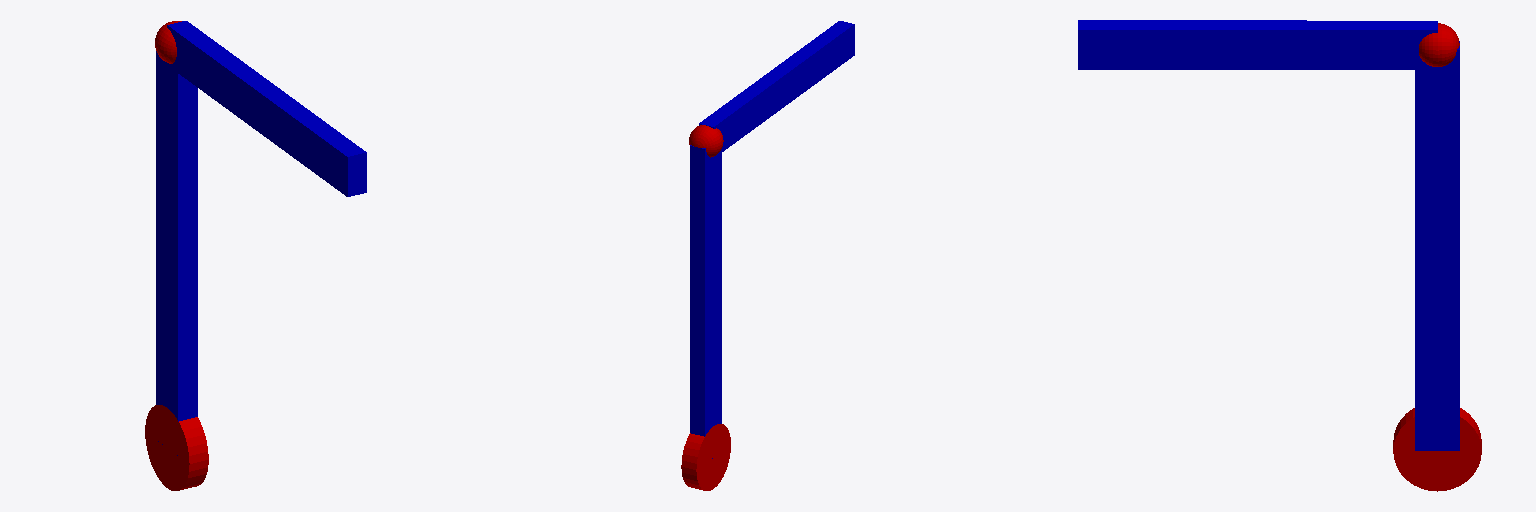
robot.urdf — TwoLinkStruct7855361147:
<?xml version="1.0"?>
<robot  name="TwoLinkStruct7855361147" >
 <material  name="blue" >
  <color  rgba="0 0 0.8 1.0" />
 </material>
 <material  name="red" >
  <color  rgba="0.8 0 0 1.0" />
 </material>
 <link  name="base_link" >
  <visual >
   <origin  rpy="0 1.5707 0"  xyz="0 0 0" />
   <material  name="red" />
   <geometry >
    <cylinder  length="0.05"  radius="0.1" />
   </geometry>
  </visual>
 </link>
 <joint  type="revolute"  name="joint1" >
  <parent  link="base_link" />
  <child  link="link1" />
  <origin  xyz="0 0 0"  rpy="0 0 0" />
  <axis  xyz="1 0 0" />
 </joint>
 <link  name="link1" >
  <inertial >
   <origin  rpy="0 0 0"  xyz="0 0 0.5" />
   <mass  value="4.0191545486450195" />
   <inertia  ixy="0.0"  iyy="0.0016746477286020917"  izz="0.3357668695847193"  ixz="0.0"  ixx="0.3357668695847193"  iyz="0.0" />
  </inertial>
  <visual >
   <origin  rpy="0 0 0"  xyz="0 0 0.5" />
   <material  name="blue" />
   <geometry >
    <box  size="0.05 0.1 1.0" />
   </geometry>
  </visual>
 </link>
 <joint  type="fixed"  name="joint-joint-1" >
  <parent  link="link1" />
  <child  link="joint-link-1" />
  <origin  xyz="0 0 1.0"  rpy="1.5707 0 0" />
  <axis  xyz="1 0 0" />
 </joint>
 <link  name="joint-link-1" >
  <inertial >
   <origin  rpy="0 0 0"  xyz="0 0 0" />
   <mass  value="2.050191987137427" />
   <inertia  ixy="0"  iyy="0"  izz="0"  ixz="0"  ixx="0"  iyz="0" />
  </inertial>
  <visual >
   <origin  rpy="0 0 0"  xyz="0 0 0" />
   <material  name="red" />
   <geometry >
    <sphere  radius="0.05" />
   </geometry>
  </visual>
 </link>
 <joint  type="revolute"  name="joint2" >
  <parent  link="link1" />
  <child  link="link2" />
  <origin  xyz="0 0 1.0"  rpy="1.5707 0 0" />
  <axis  xyz="1 0 0" />
 </joint>
 <link  name="link2" >
  <inertial >
   <origin  rpy="0 0 0"  xyz="0 0 0.405692074766997" />
   <mass  value="2.77772957906781" />
   <inertia  ixy="0.0"  iyy="0.0016746477286020917"  izz="0.22133626046381374"  ixz="0.0"  ixx="0.22133626046381374"  iyz="0.0" />
  </inertial>
  <visual >
   <origin  rpy="0 0 0"  xyz="0 0 0.405692074766997" />
   <material  name="blue" />
   <geometry >
    <box  size="0.05 0.1 0.811384149533994" />
   </geometry>
  </visual>
 </link>
 <joint  type="fixed"  name="eef_joint" >
  <parent  link="link2" />
  <child  link="eef" />
  <origin  xyz="0 0 0.811384149533994"  rpy="0 0 0" />
 </joint>
 <link  name="eef" >
  <inertial >
   <origin  rpy="0 0 0"  xyz="0 0 0" />
   <mass  value="1" />
   <inertia  ixy="0"  iyy="0"  izz="0"  ixz="0"  ixx="0"  iyz="0" />
  </inertial>
 </link>
 <transmission  name="motor1" >
  <type  xmltext="SimpleTransmission" >
   SimpleTransmission
  </type>
  <actuator  name="motor1" >
   <mechanicalreduction  xmltext="1" >
    1
   </mechanicalreduction>
  </actuator>
  <joint  name="joint1" />
 </transmission>
 <transmission  name="motor2" >
  <type  xmltext="SimpleTransmission" >
   SimpleTransmission
  </type>
  <actuator  name="motor2" >
   <mechanicalreduction  xmltext="1" >
    1
   </mechanicalreduction>
  </actuator>
  <joint  name="joint2" />
 </transmission>
</robot>

<!-- {'carti': array([-0.1 ,  0.14,  0.85]), 'cartd': array([-0.1 ,  0.32,  1.29]), 'tau_mu': 0.7840843731363405, 'b0': 0.0, 'Km': 1.8029639521040348, 'k_velocity': 17.800666675647207, 'tau_max_m': 3.6840564151538513, 'omega_max_m': 1000.0, 'gear_ratio': 15.589276654748694, 'Kp': 21.279576472350502, 'Kd': 50.70622233983424, 'm_m': 2.050191987137427, 'l1': 1.0, 'l2': 0.811384149533994, 'k1': 13984.47342083714, 'k2': 130210218.0939151, 'k3': 374472299.1250727}-->

--- Facts derived from the render (not from the file) ---
The picture shows the robot from 3 angles, left to right: view 1: azimuth 30°, elevation 25°; view 2: azimuth 150°, elevation 25°; view 3: azimuth 270°, elevation 25°; orthographic projection.
Model TwoLinkStruct7855361147 with 5 links and 4 joints (2 revolute, 2 fixed), rooted at base_link, posed every joint at zero.
Visible links, largest first — view 1: link1, link2, base_link, joint-link-1; view 2: link1, link2, base_link, joint-link-1; view 3: link1, link2, base_link, joint-link-1.
Link boxes in pixels (<box>): link1: <box>156,51,197,455</box>; link2: <box>167,21,366,196</box>; base_link: <box>145,405,208,490</box>; joint-link-1: <box>155,21,181,63</box>; link1: <box>690,145,721,458</box>; link2: <box>699,21,854,151</box>; base_link: <box>681,424,730,490</box>; joint-link-1: <box>689,125,723,157</box>; link1: <box>1415,41,1459,450</box>; link2: <box>1078,20,1437,69</box>; base_link: <box>1393,408,1481,491</box>; joint-link-1: <box>1419,23,1459,66</box>.
Size in the robot's own frame: 0.1 by 0.9114 by 1.15 metres.
Geometry: primitives only (box / cylinder / sphere), no mesh files.
